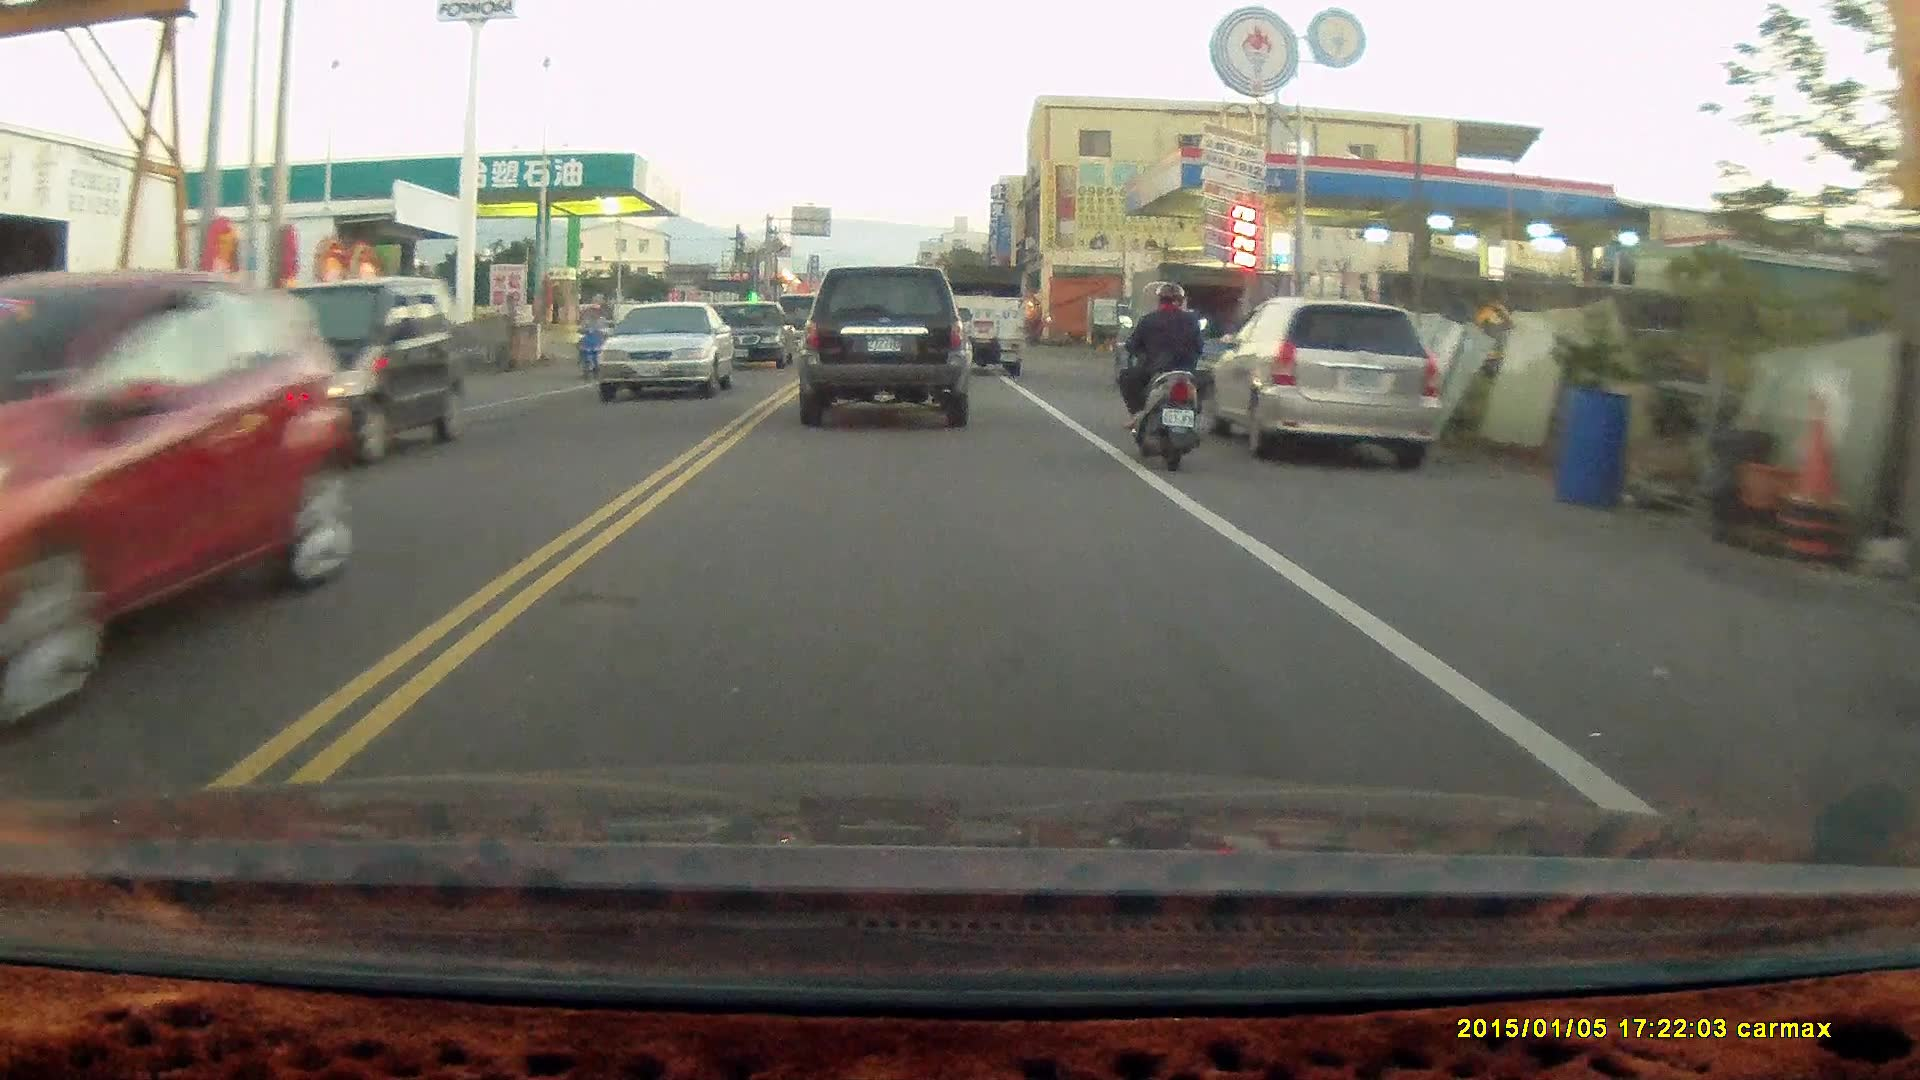rider: (1112, 277, 1209, 466), (571, 300, 618, 383)
vehicle: (1, 267, 360, 723), (195, 274, 468, 471), (1214, 295, 1449, 472), (794, 266, 972, 430), (1112, 259, 1251, 387), (593, 300, 739, 400), (938, 260, 1024, 376), (713, 298, 798, 368)
